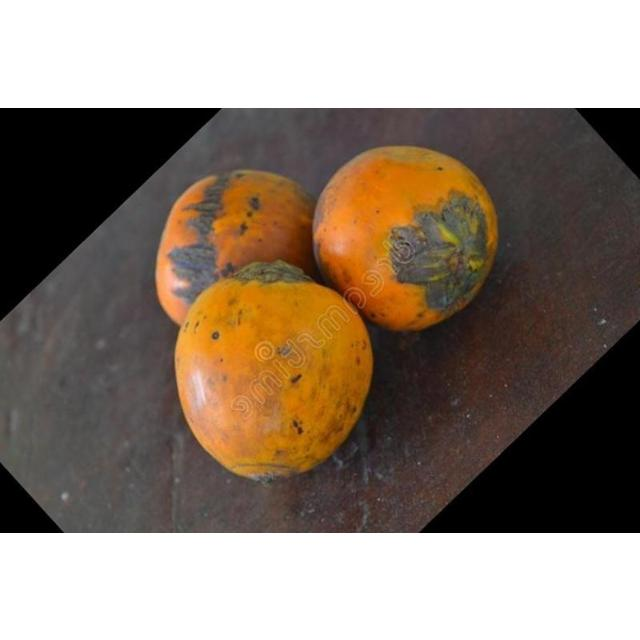good: (174, 261, 374, 478), (312, 145, 500, 332)
